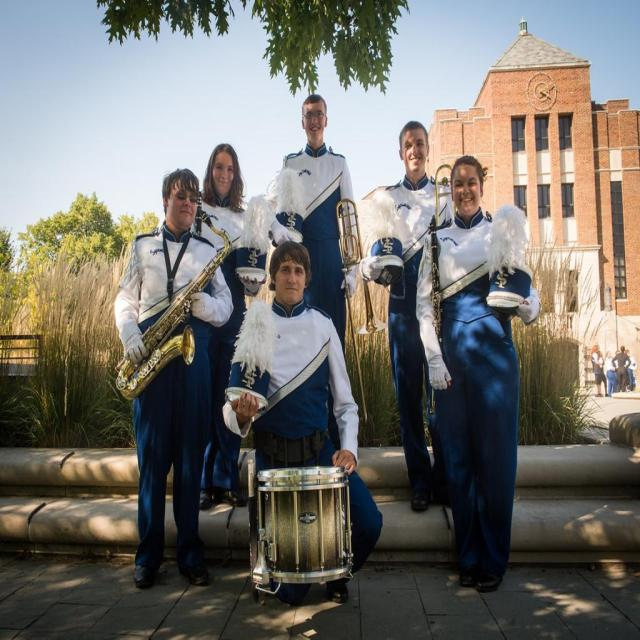Face: (272, 254, 315, 309), (452, 159, 488, 221), (168, 174, 201, 240), (300, 100, 331, 152), (402, 123, 430, 176), (212, 151, 237, 203)
